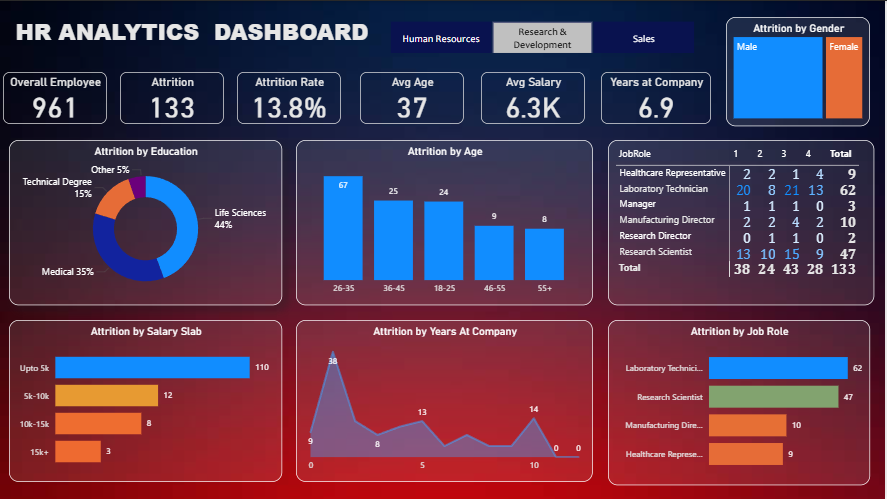

The page's visual inventory and layout, read from the dashboard file:
{"tool":"powerbi","page":{"name":"Page 1","canvas":[1280,720],"ordinal":0},"visuals":[{"type":"card","title":"Overall Employee","fields":{"Values":["CountNonNull(HR_Analytics.EmpID)"]},"box":[5.8,102.7,150.4,75.2],"z":0},{"type":"card","title":"Attrition","fields":{"Values":["Sum(HR_Analytics.AttritionCount)"]},"box":[174.9,102.7,150.4,75.2],"z":1000},{"type":"card","title":"Attrition Rate","fields":{"Values":["HR_Analytics.AttritionRate"]},"box":[344.1,102.7,150.4,75.2],"z":2000},{"type":"card","title":"Avg Age","fields":{"Values":["Avg(HR_Analytics.Age)"]},"box":[521.9,102.7,150.4,75.2],"z":3000},{"type":"card","title":"Avg Salary","fields":{"Values":["Avg(HR_Analytics.MonthlyIncome)"]},"box":[696.9,102.7,150.4,75.2],"z":4000},{"type":"card","title":"Years at Company","fields":{"Values":["Avg(HR_Analytics.YearsAtCompany)"]},"box":[870.4,102.7,159,75.2],"z":5000},{"type":"donutChart","title":"Attrition by Education","fields":{"Category":["HR_Analytics.EducationField"],"Y":["Sum(HR_Analytics.AttritionCount)"]},"box":[14.5,201,394.7,238.6],"z":6000},{"type":"columnChart","title":"Attrition by Age","fields":{"Category":["HR_Analytics.AgeGroup"],"Y":["Sum(HR_Analytics.AttritionCount)"]},"box":[429.4,201,429.4,238.6],"z":7000},{"type":"pivotTable","title":"Job satisfaction","fields":{"Rows":["HR_Analytics.JobRole"],"Columns":["HR_Analytics.JobSatisfaction"],"Values":["Sum(HR_Analytics.AttritionCount)"]},"box":[880.5,201,384.6,238.6],"z":8000},{"type":"barChart","title":"Attrition by Salary Slab","fields":{"Category":["HR_Analytics.SalarySlab"],"Y":["Sum(HR_Analytics.AttritionCount)"]},"box":[14.5,461.2,394.7,234.2],"z":9000},{"type":"barChart","title":"Attrition by Job Role","fields":{"Category":["HR_Analytics.JobRole"],"Y":["Sum(HR_Analytics.AttritionCount)"]},"box":[880.5,461.2,378.8,238.6],"z":10000},{"type":"areaChart","title":"Attrition by Years At Company","fields":{"Category":["HR_Analytics.YearsAtCompany"],"Y":["Sum(HR_Analytics.AttritionCount)"]},"box":[429.4,461.2,429.4,234.2],"z":11000},{"type":"treemap","title":"Attrition by Gender","fields":{"Group":["HR_Analytics.Gender"],"Values":["Sum(HR_Analytics.AttritionCount)"]},"box":[1051.1,23.1,208.2,157.6],"z":12000},{"type":"slicer","fields":{"Values":["HR_Analytics.Department"]},"box":[541,23,488,52],"z":13000},{"type":"textbox","box":[5.8,0,546.5,75.2],"z":14000}]}

Visuals, with their boxes in screenshot pixels (x1, y1, x2, y2), scaled from the page's 1280x720 canvas onto the 887x499 screenshot:
"Overall Employee" card: <box>4,71,108,123</box>
"Attrition" card: <box>121,71,225,123</box>
"Attrition Rate" card: <box>238,71,343,123</box>
"Avg Age" card: <box>362,71,466,123</box>
"Avg Salary" card: <box>483,71,587,123</box>
"Years at Company" card: <box>603,71,713,123</box>
"Attrition by Education" donutChart: <box>10,139,284,305</box>
"Attrition by Age" columnChart: <box>298,139,595,305</box>
"Job satisfaction" pivotTable: <box>610,139,877,305</box>
"Attrition by Salary Slab" barChart: <box>10,320,284,482</box>
"Attrition by Job Role" barChart: <box>610,320,873,485</box>
"Attrition by Years At Company" areaChart: <box>298,320,595,482</box>
"Attrition by Gender" treemap: <box>728,16,873,125</box>
slicer - HR_Analytics.Department: <box>375,16,713,52</box>
textbox: <box>4,0,383,52</box>
